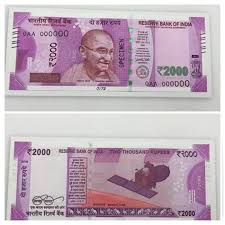twoThousand: (18, 22, 199, 79)
